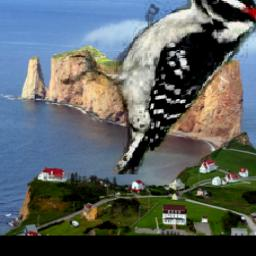Woodpecker: (58, 0, 256, 175)
